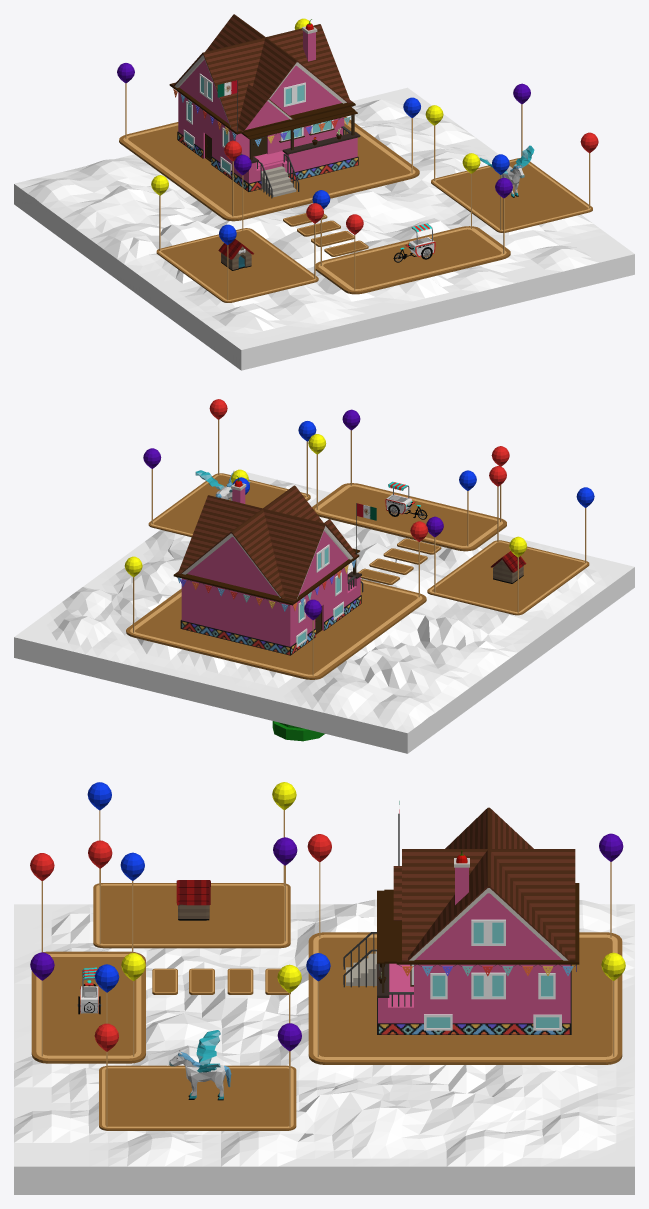
3 renders of one model, top to bottom at view 1: azimuth 30°, elevation 25°; view 2: azimuth 150°, elevation 25°; view 3: azimuth 270°, elevation 25°, orthographic. The views are drawn at different scales.
Parts seen in each view (by area): view 1: Cube.013, Cube.1005, OBJRANDOM_DOGHOUSE, VEHICLES_SNOWBAL_BIKE, ANIMAL_PEGASO; view 2: Cube.013, Cube.1005, VEHICLES_SNOWBAL_BIKE, OBJRANDOM_DOGHOUSE, UNDERGROUND_PIPES; view 3: Cube.013, Cube.1005, ANIMAL_PEGASO, OBJRANDOM_DOGHOUSE, VEHICLES_SNOWBAL_BIKE.
Boxes of the visible parts, bbox=[...] form: Cube.013: bbox=[14, 18, 634, 370]; Cube.1005: bbox=[169, 14, 360, 198]; OBJRANDOM_DOGHOUSE: bbox=[218, 239, 253, 270]; VEHICLES_SNOWBAL_BIKE: bbox=[393, 223, 435, 262]; ANIMAL_PEGASO: bbox=[479, 145, 534, 197]; Cube.013: bbox=[14, 399, 634, 753]; Cube.1005: bbox=[173, 476, 376, 655]; VEHICLES_SNOWBAL_BIKE: bbox=[385, 481, 427, 519]; OBJRANDOM_DOGHOUSE: bbox=[491, 551, 526, 583]; UNDERGROUND_PIPES: bbox=[272, 721, 324, 741]; Cube.013: bbox=[14, 782, 634, 1194]; Cube.1005: bbox=[343, 801, 579, 1034]; ANIMAL_PEGASO: bbox=[169, 1030, 231, 1100]; OBJRANDOM_DOGHOUSE: bbox=[176, 880, 210, 920]; VEHICLES_SNOWBAL_BIKE: bbox=[77, 967, 101, 1014].
Size of the model in its own units: 4000 by 2357 by 4000.
Materials: 73 (3 with a texture image).
